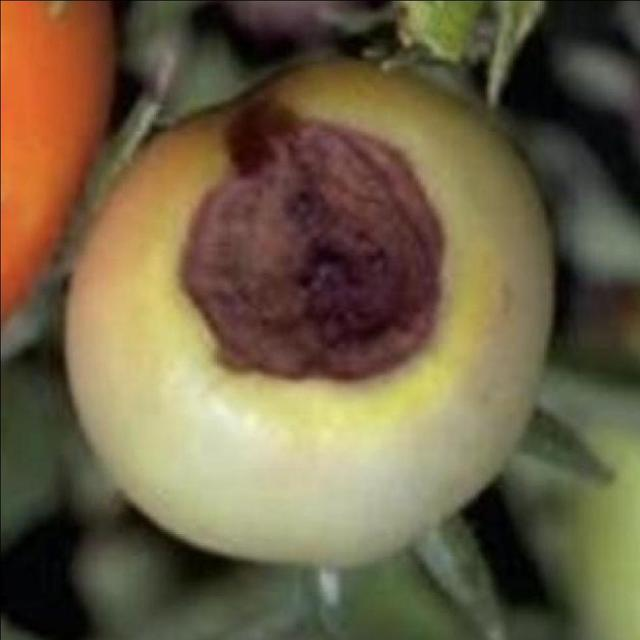Blossom End Rot Fruit: (118, 67, 301, 262)
